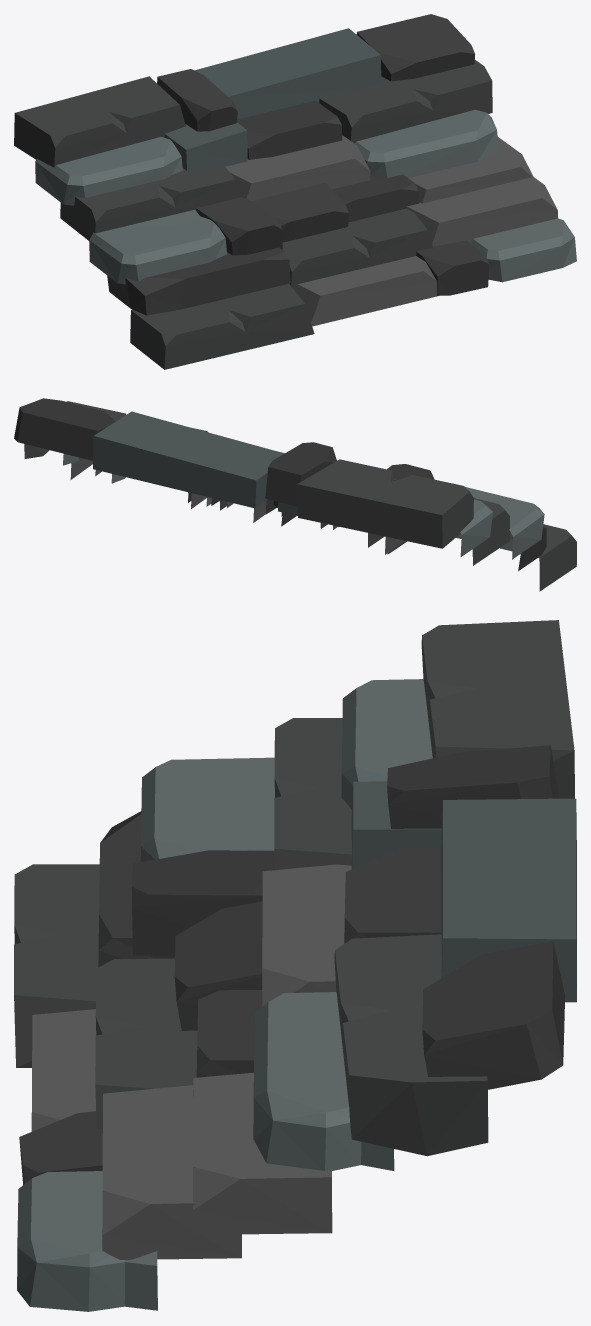
The model's file is ZLP_Stairs_A_3.FBX.
3 renders of one model, top to bottom at view 1: azimuth 30°, elevation 25°; view 2: azimuth 150°, elevation 25°; view 3: azimuth 270°, elevation 25°, orthographic. The views are drawn at different scales.
Parts seen in each view (by area): view 1: ZLP_Stairs_A_3; view 2: ZLP_Stairs_A_3; view 3: ZLP_Stairs_A_3.
Boxes of the visible parts, left/top/right/bottom form: ZLP_Stairs_A_3: left=14, top=14, right=576, bottom=369; ZLP_Stairs_A_3: left=14, top=398, right=576, bottom=591; ZLP_Stairs_A_3: left=14, top=620, right=576, bottom=1311.
Size of the model in its own units: 463 by 164 by 273.
